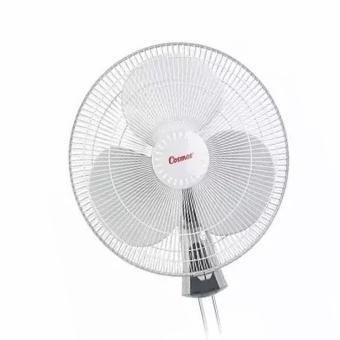fan: (66, 6, 290, 340)
